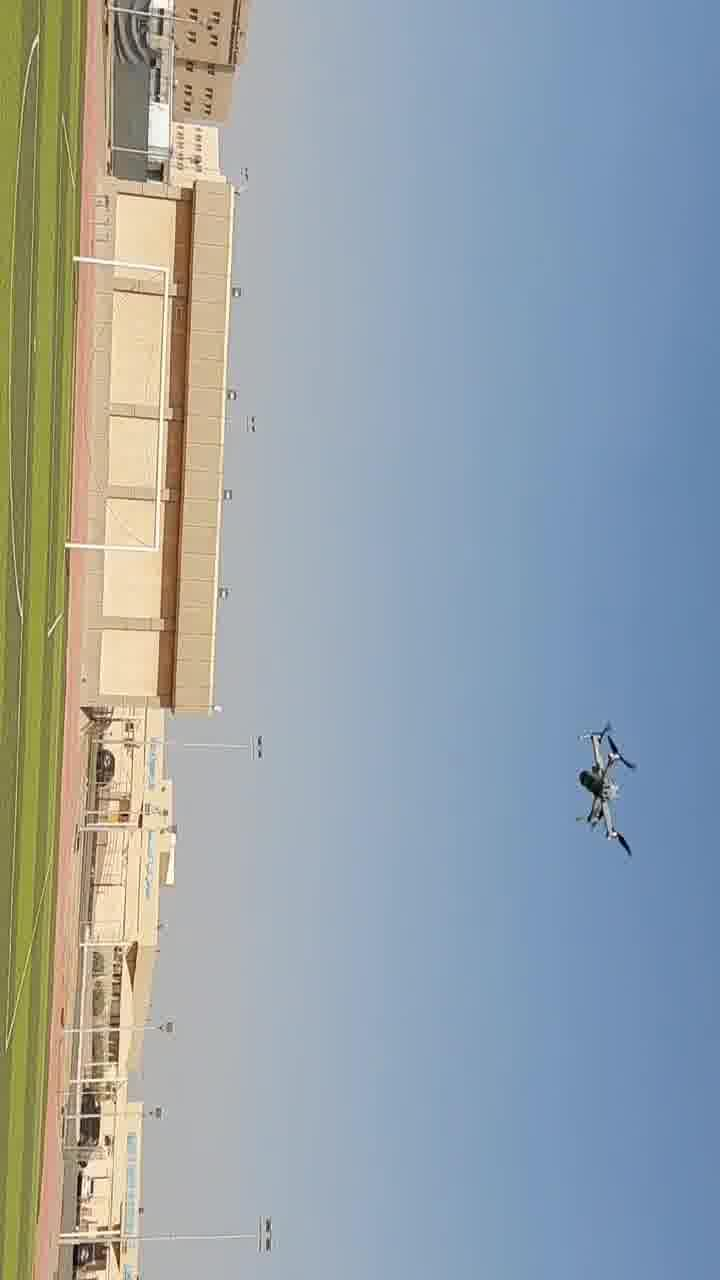drone: (401, 144, 487, 274)
